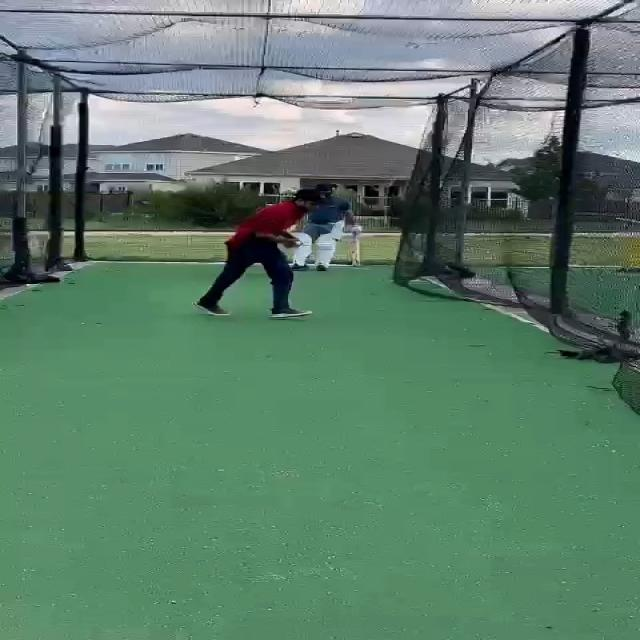batsman: (290, 183, 363, 272)
